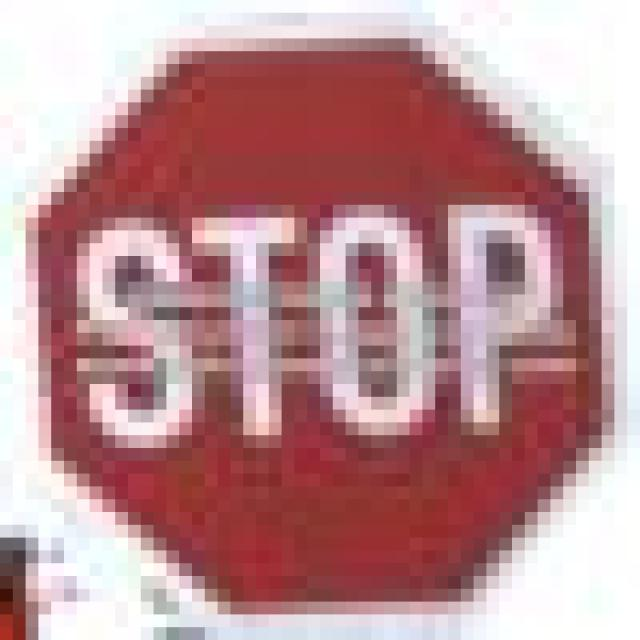STOP: (12, 39, 602, 602)
